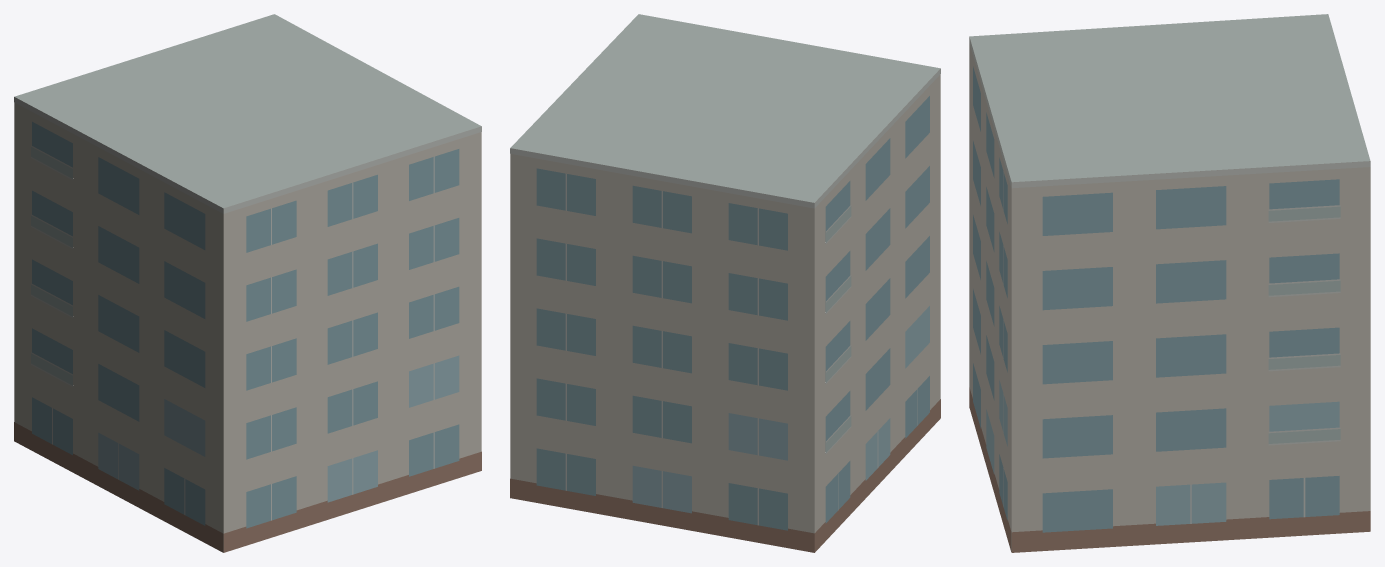
Rendered from survey-upis-32577317.glb.
The picture shows the model from 3 angles, left to right: view 1: azimuth 30°, elevation 25°; view 2: azimuth 150°, elevation 25°; view 3: azimuth 270°, elevation 25°; orthographic projection. The views are drawn at different scales.
Parts seen in each view (by area): view 1: survey-upis-32577317.tmp; view 2: survey-upis-32577317.tmp; view 3: survey-upis-32577317.tmp.
Part boxes in pixels (x1,y1,x2,y2): survey-upis-32577317.tmp: (14,14,481,552); survey-upis-32577317.tmp: (510,14,940,552); survey-upis-32577317.tmp: (969,14,1370,552).
Size of the model in its own units: 14.66 by 15.05 by 14.77.
